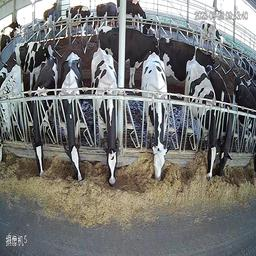cow: (87, 46, 123, 181), (179, 58, 215, 177), (97, 26, 159, 91), (143, 53, 171, 184), (29, 56, 58, 177), (206, 65, 234, 177), (61, 51, 83, 186), (159, 34, 214, 79), (233, 73, 255, 163), (13, 41, 51, 88), (0, 65, 21, 146), (64, 3, 97, 37), (117, 0, 146, 31), (199, 19, 224, 48), (98, 0, 120, 28), (42, 2, 60, 27)
